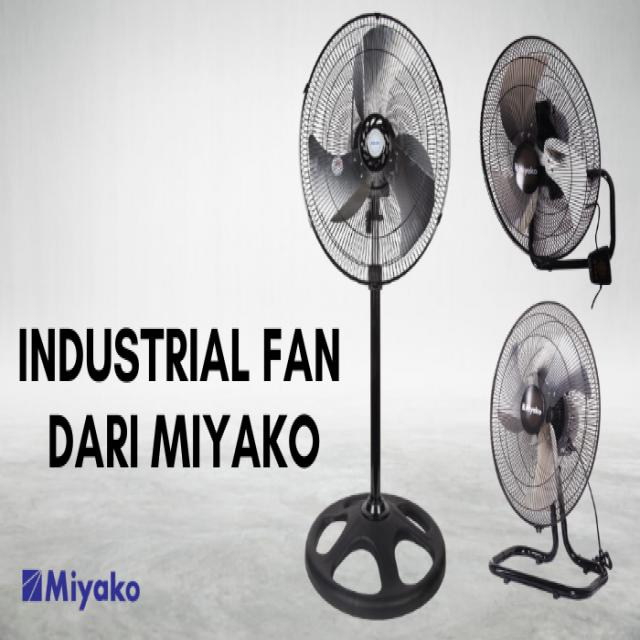fan: (480, 31, 616, 610)
